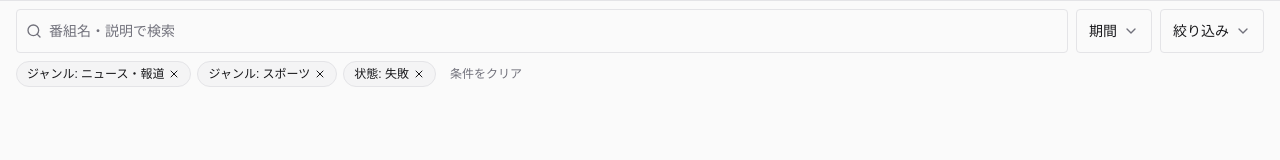
Test: RecordingFilters チップ › 適用中の条件がチップで出て、押すとその条件だけ外れる
Expected: the button "ジャンル: スポーツ" is shown, top-left (198, 61), bottom-right (337, 87)
Expected: the button "状態: 失敗" is shown, top-left (343, 61), bottom-right (436, 87)
Click the button "ジャンル: ニュース・報道" at (104, 74), box top-left (16, 61), bottom-right (192, 87)
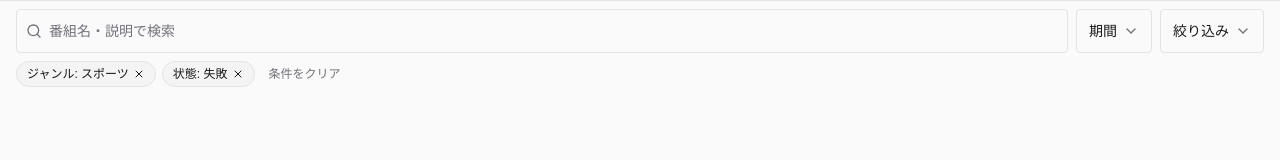
Expected: the button "ジャンル: スポーツ" is shown, top-left (16, 61), bottom-right (156, 87)
Now the button "ジャンル: ニュース・報道" is gone
